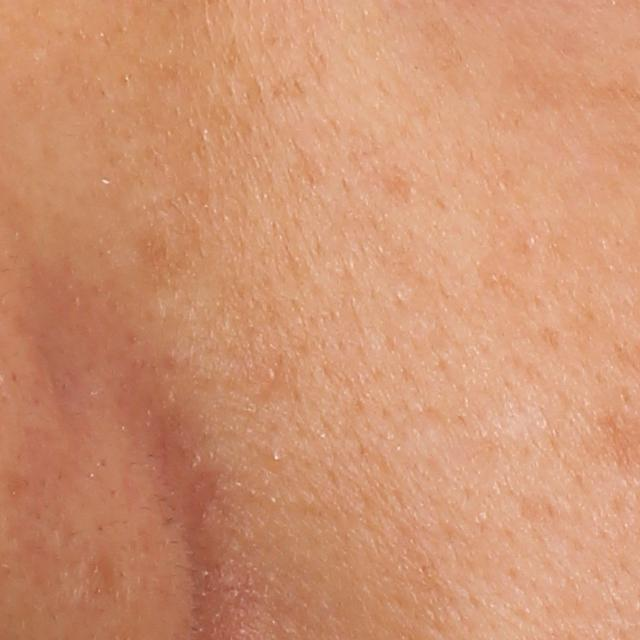comedo: (270, 450, 284, 465)
